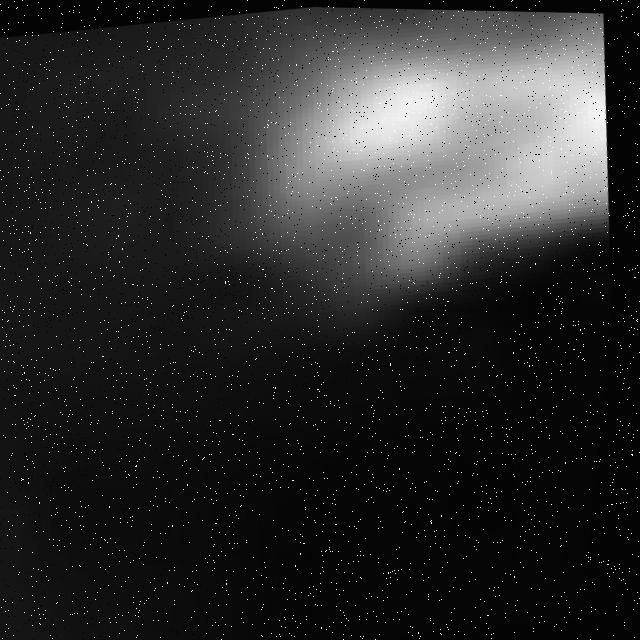person: (176, 15, 635, 317)
